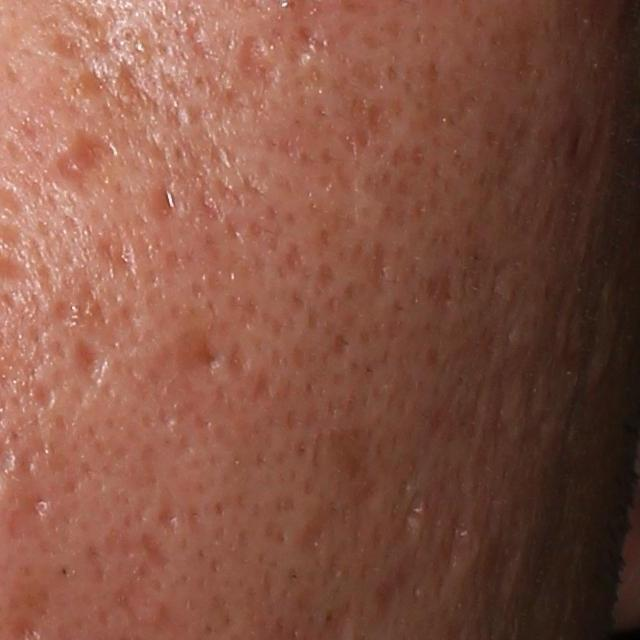atrophic_scar: (51, 126, 114, 198), (2, 492, 61, 558), (438, 503, 476, 584), (235, 31, 284, 91), (49, 282, 112, 327), (176, 324, 226, 380), (93, 235, 137, 280), (374, 569, 414, 618), (109, 579, 147, 629), (282, 21, 322, 68), (146, 182, 189, 224), (111, 53, 144, 105), (76, 338, 109, 388), (425, 264, 455, 318), (368, 239, 396, 295), (76, 54, 110, 100), (139, 528, 174, 571), (299, 509, 325, 564), (366, 97, 396, 144), (399, 492, 428, 539), (346, 56, 379, 93), (46, 31, 88, 60), (157, 481, 178, 534), (279, 244, 306, 285), (353, 479, 382, 513), (31, 377, 56, 414), (254, 366, 274, 404), (318, 263, 339, 290), (331, 334, 352, 357)
